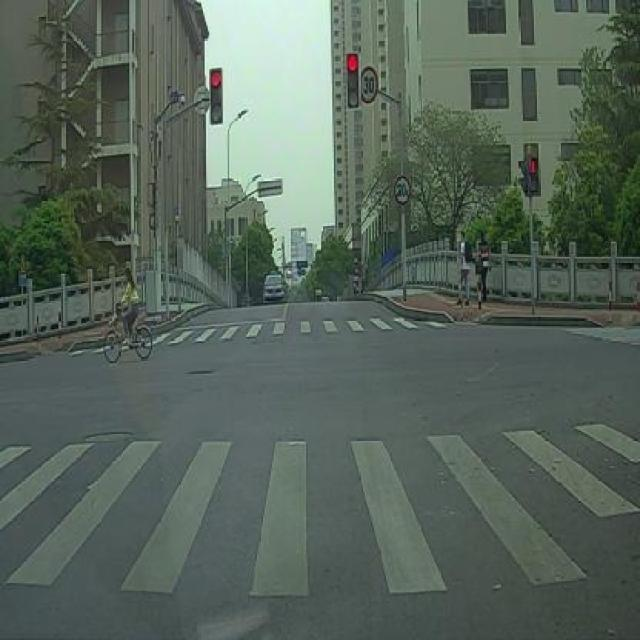forb_speed_over_30: (359, 66, 379, 102)
